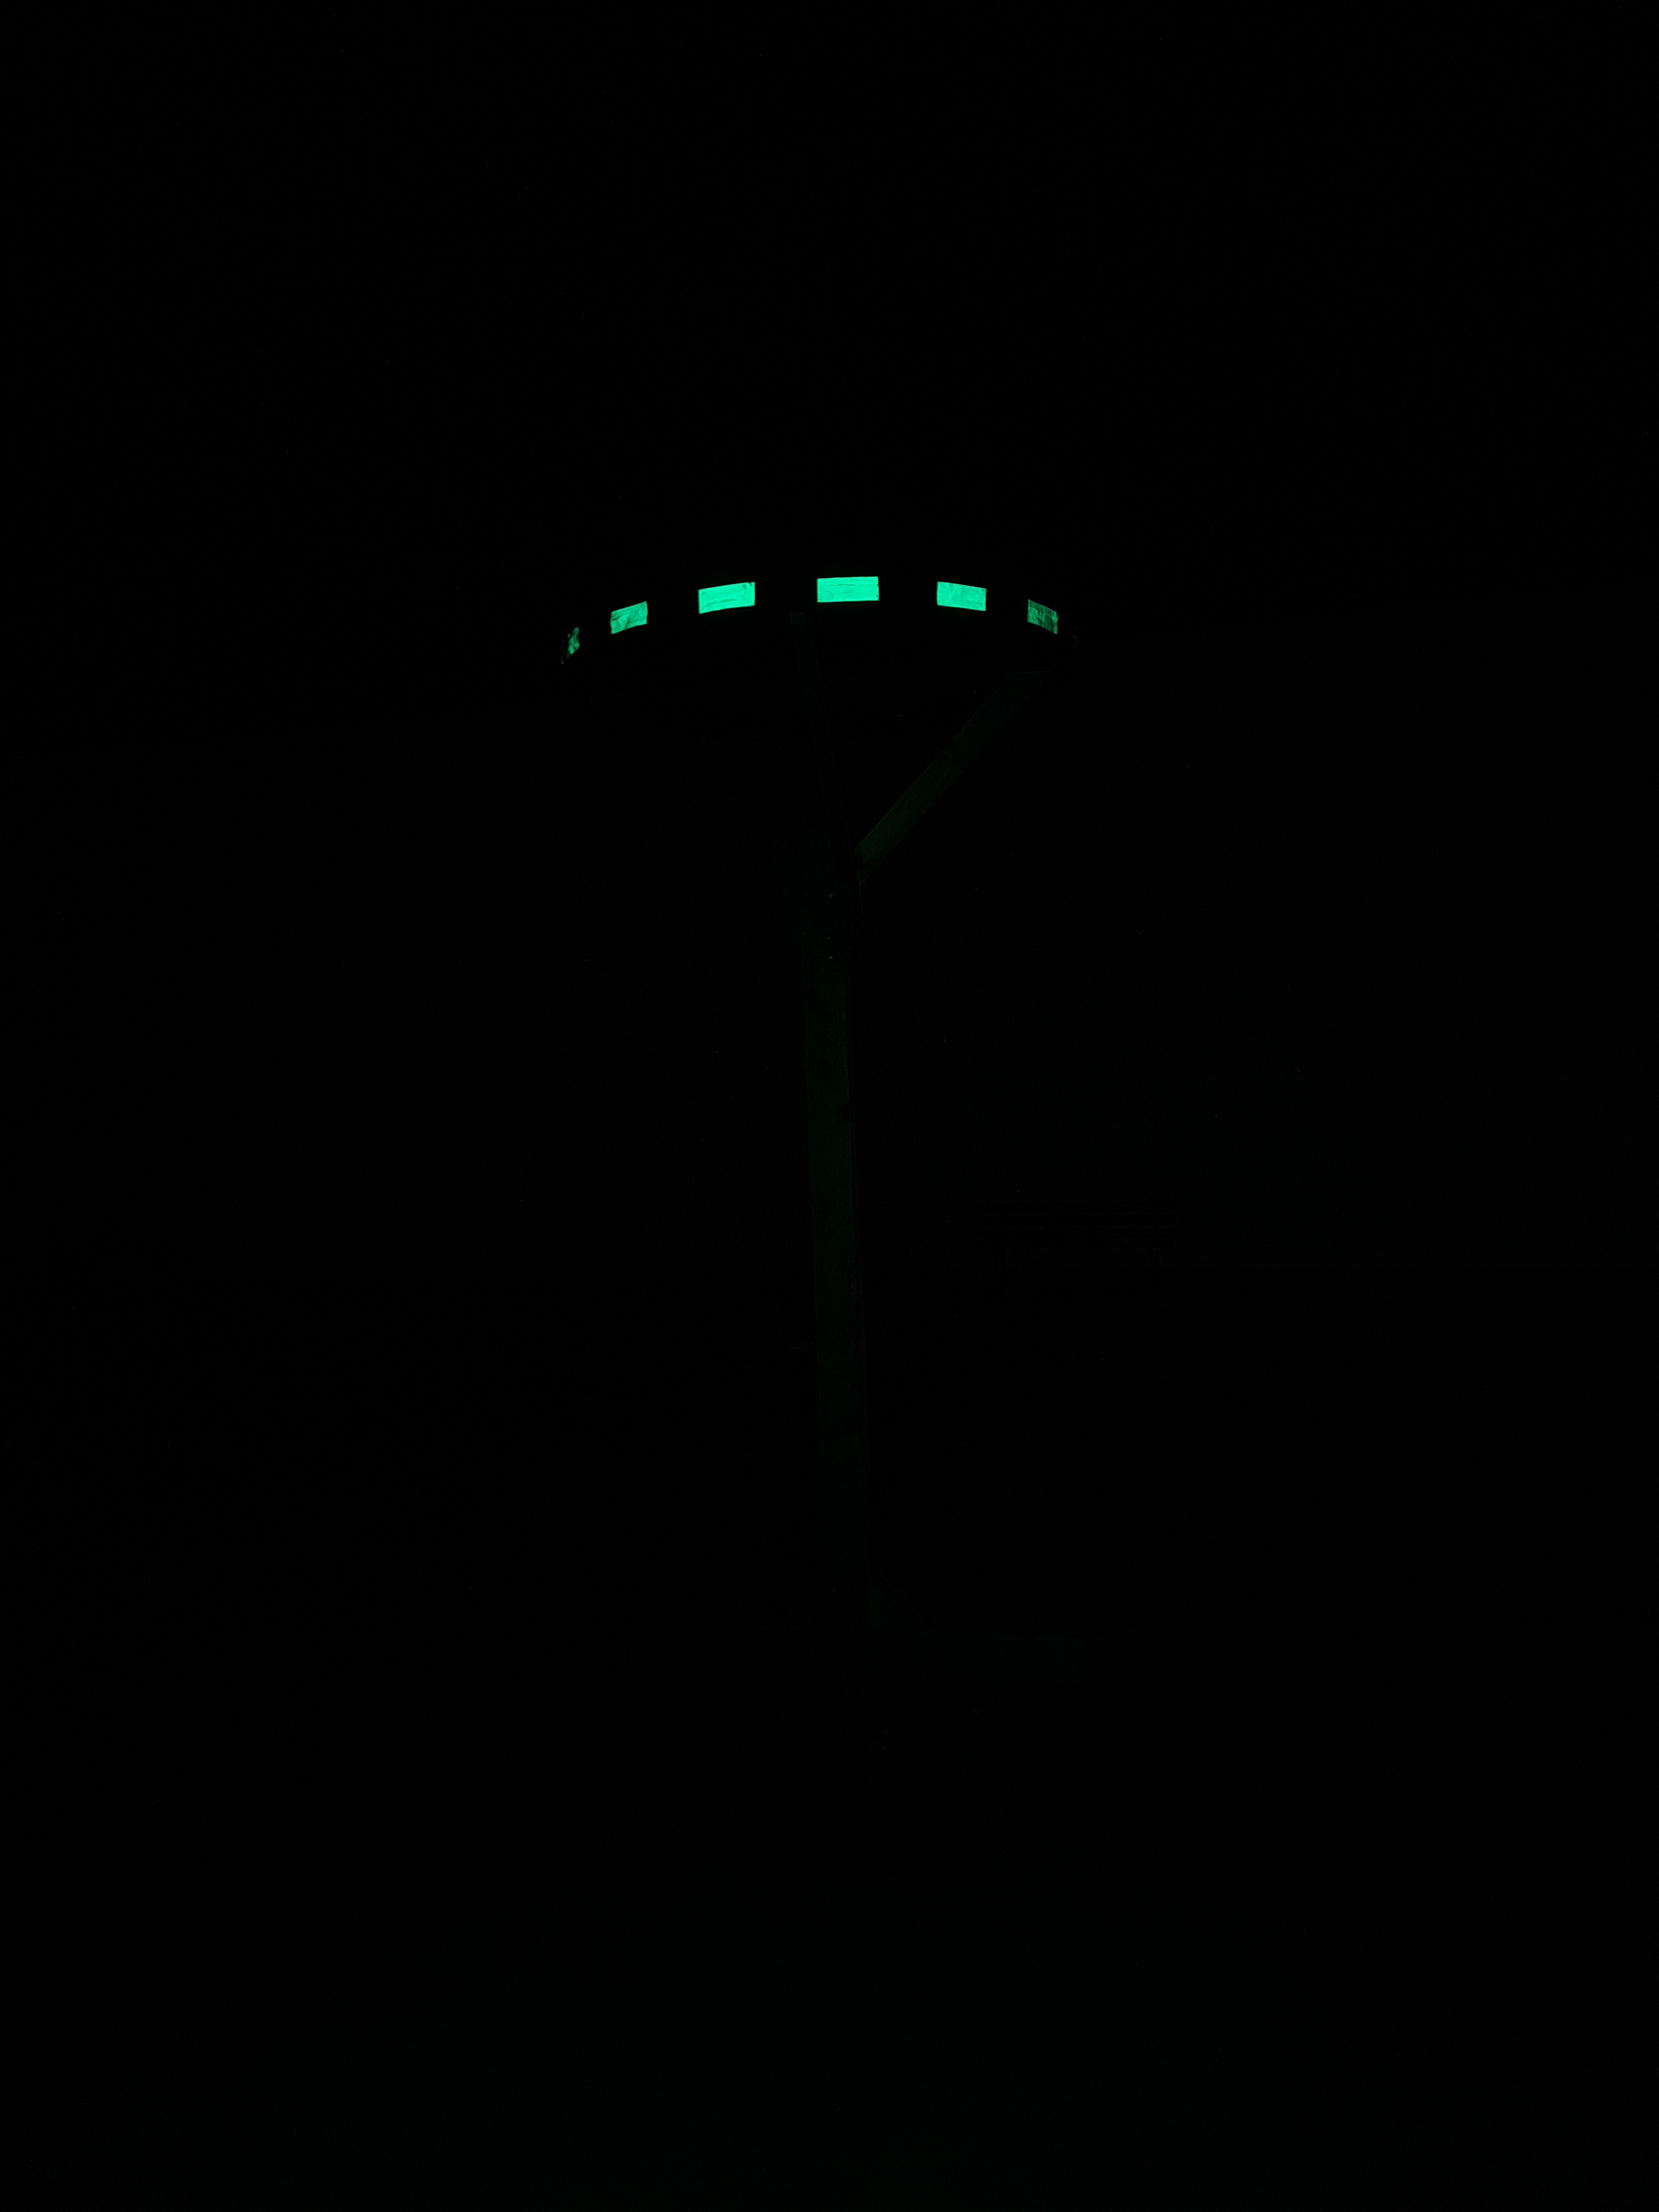hoop: (538, 564, 1066, 674)
